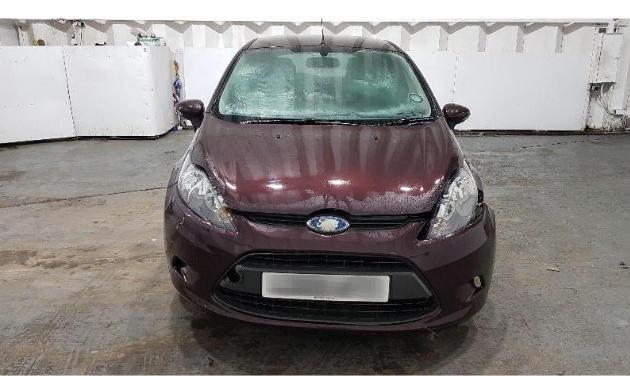Fender: (167, 152, 187, 192), (468, 163, 486, 205)
Front-bumper: (163, 182, 496, 332)
Grille: (203, 251, 440, 325), (227, 208, 435, 234)
Headlight: (178, 153, 239, 235), (422, 159, 479, 240)
Hood: (189, 114, 465, 215)
Mirror: (441, 103, 472, 133), (176, 99, 204, 132)
Quarter-panel: (402, 54, 442, 120), (205, 50, 246, 113)
Roof: (242, 34, 407, 54)
Windshield: (218, 50, 432, 118)
